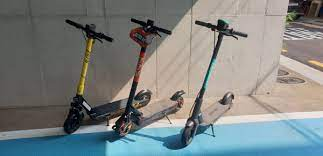kick_board: (182, 20, 247, 146)
kick_handler: (65, 20, 113, 43), (194, 19, 247, 39), (130, 17, 171, 36)
kick_neck: (76, 40, 91, 97)
kick_wheel: (64, 113, 83, 133), (114, 117, 132, 138), (182, 124, 195, 146), (137, 90, 151, 106), (224, 93, 235, 109), (176, 97, 184, 111)
